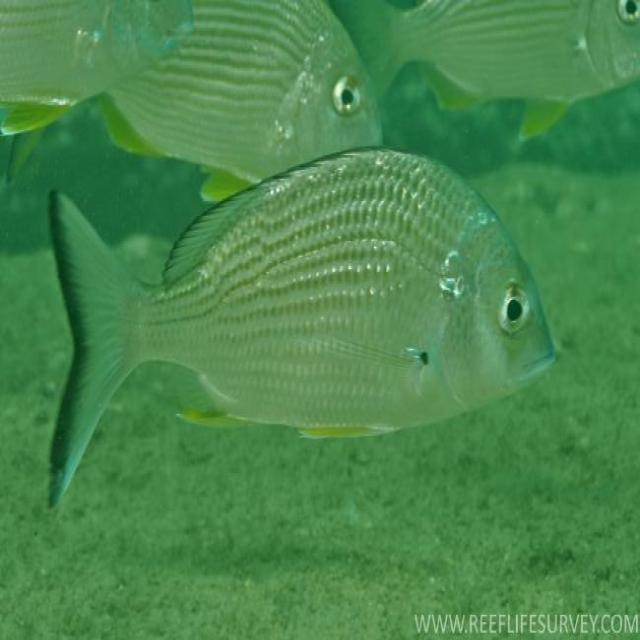ikan: (44, 144, 556, 508), (0, 0, 384, 194), (324, 0, 639, 140)
